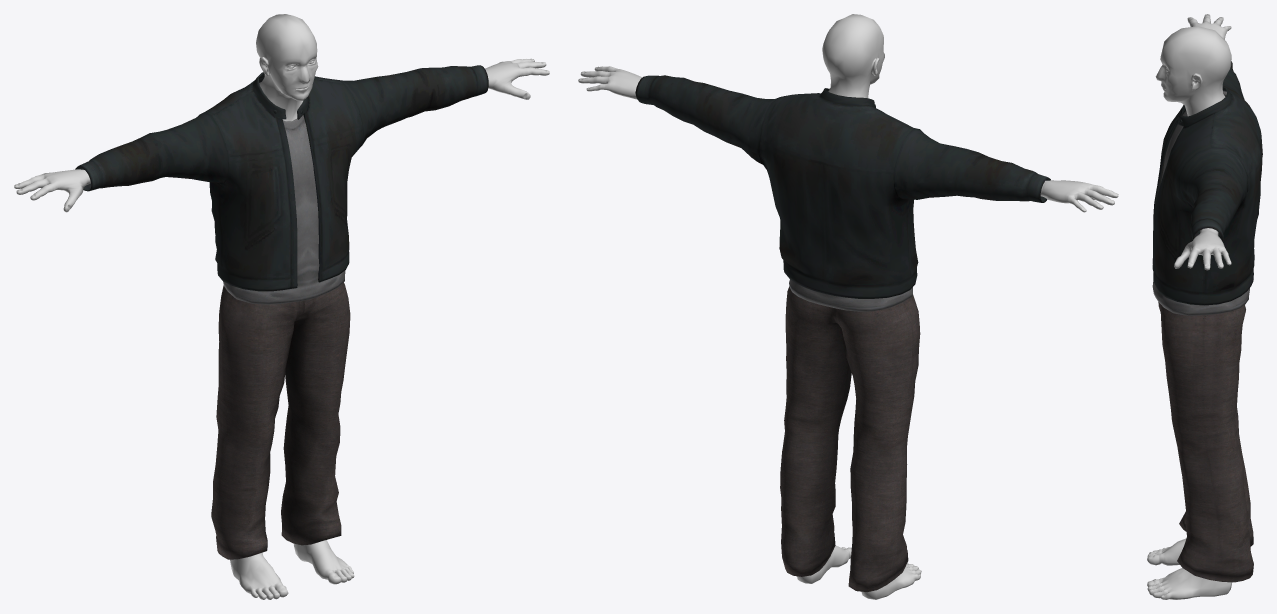
Rendered from Body_With_Pants_T-short_Jacket_V1.gltf.
3 views of the same model, side by side, from view 1: azimuth 30°, elevation 25°; view 2: azimuth 150°, elevation 25°; view 3: azimuth 270°, elevation 25° (orthographic). The views are drawn at different scales.
Visible parts, largest first — view 1: Jacket, Pants, BaseMesh_Man_Simple_Body.001, t-short; view 2: Jacket, Pants, BaseMesh_Man_Simple_Body.001, t-short; view 3: Pants, Jacket, BaseMesh_Man_Simple_Body.001, t-short.
Part boxes in pixels (left/top/right/bottom): Jacket: left=75, top=65, right=488, bottom=291; Pants: left=211, top=282, right=350, bottom=559; BaseMesh_Man_Simple_Body.001: left=14, top=14, right=549, bottom=599; t-short: left=223, top=82, right=345, bottom=304; Jacket: left=635, top=75, right=1050, bottom=298; Pants: left=780, top=286, right=920, bottom=592; BaseMesh_Man_Simple_Body.001: left=578, top=14, right=1118, bottom=599; t-short: left=789, top=279, right=912, bottom=311; Pants: left=1158, top=302, right=1253, bottom=582; Jacket: left=1152, top=61, right=1262, bottom=305; BaseMesh_Man_Simple_Body.001: left=1147, top=14, right=1232, bottom=599; t-short: left=1152, top=91, right=1249, bottom=315.
Bounding box in the file's own units: 1.8 × 1.81 × 0.3471.
Materials: 4 (3 with a texture image).
